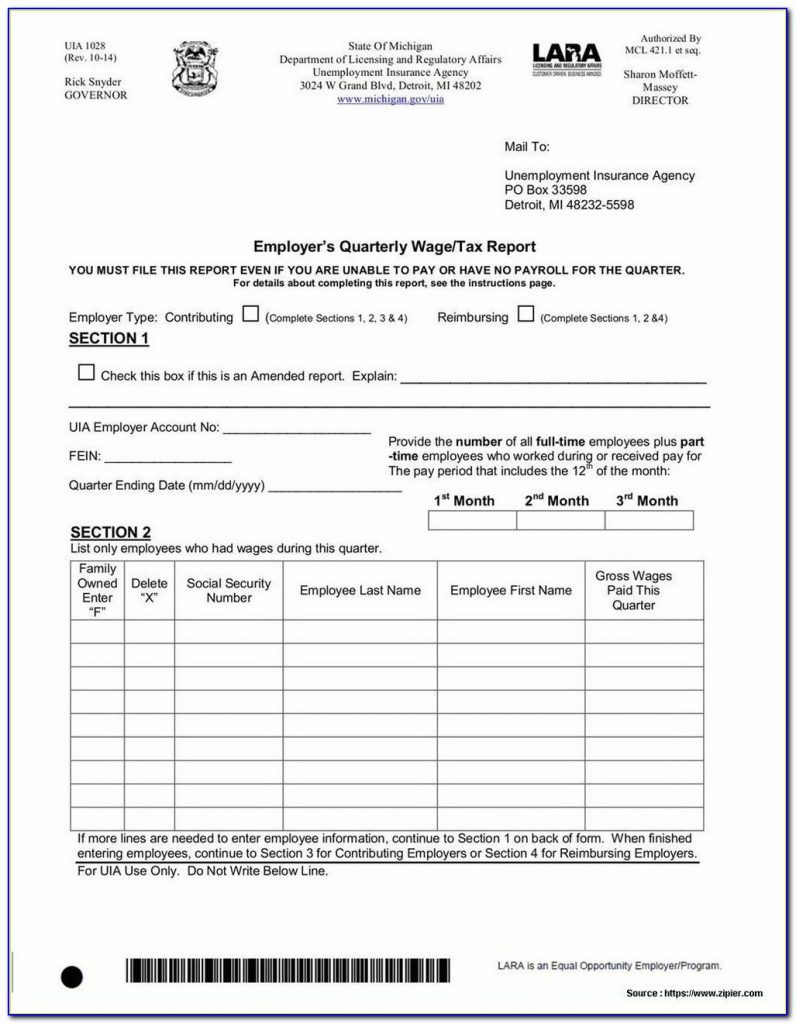checkbox: (239, 303, 261, 324), (514, 302, 536, 323), (75, 360, 97, 381)
textbox: (279, 616, 441, 646), (279, 639, 441, 669), (278, 662, 440, 692), (278, 686, 440, 716), (279, 709, 441, 739), (279, 733, 441, 763), (278, 756, 440, 786), (279, 780, 441, 810), (278, 803, 440, 833), (432, 616, 588, 647), (433, 639, 589, 670), (433, 663, 589, 694), (432, 685, 588, 716), (433, 708, 589, 739), (433, 732, 589, 763), (432, 756, 588, 787), (433, 779, 589, 810), (433, 801, 589, 832), (581, 615, 706, 646), (580, 639, 705, 670), (581, 663, 706, 694), (581, 685, 706, 716), (581, 709, 706, 740), (582, 733, 707, 764), (581, 755, 706, 786), (581, 779, 706, 810), (581, 801, 706, 832), (170, 616, 287, 646), (170, 639, 287, 669), (170, 663, 287, 693), (170, 687, 287, 717), (169, 709, 286, 739), (169, 733, 286, 763), (169, 756, 286, 786), (170, 780, 287, 810), (169, 802, 286, 832), (424, 506, 521, 533), (512, 506, 609, 533), (600, 506, 697, 533), (65, 615, 127, 647), (65, 637, 127, 669), (65, 661, 127, 693), (66, 685, 128, 717), (66, 708, 128, 740), (66, 732, 128, 764), (65, 755, 127, 787), (65, 779, 127, 811), (65, 801, 127, 833), (120, 615, 178, 646), (120, 639, 178, 670), (119, 661, 177, 692), (119, 685, 177, 716), (120, 709, 178, 740), (121, 733, 179, 764), (120, 756, 178, 787), (120, 779, 178, 810), (120, 801, 178, 832)
textline: (64, 386, 718, 410), (397, 362, 715, 387), (220, 413, 371, 435), (100, 442, 234, 464), (264, 476, 408, 496)
